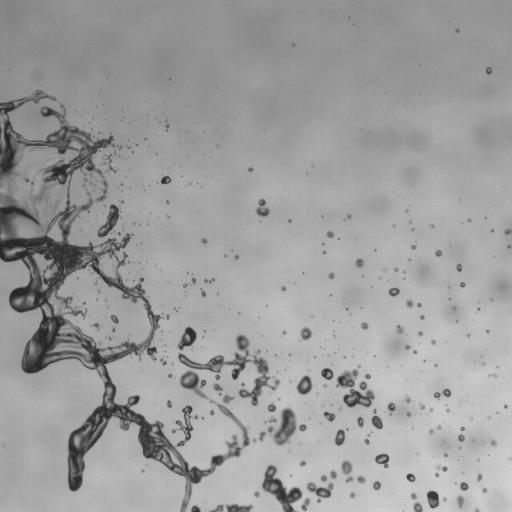droplet: (336, 368, 374, 407), (97, 204, 121, 237), (306, 482, 333, 502), (296, 375, 313, 394), (256, 198, 269, 217), (426, 490, 439, 508), (375, 453, 389, 467), (334, 429, 345, 445), (300, 327, 312, 340), (321, 368, 333, 380), (435, 464, 446, 477), (323, 411, 335, 421), (388, 287, 399, 296), (213, 383, 222, 394), (456, 495, 464, 507), (267, 402, 276, 412), (387, 402, 395, 413), (355, 258, 364, 267), (406, 473, 415, 482), (459, 482, 468, 491), (161, 176, 171, 184), (110, 314, 118, 323), (357, 416, 363, 427), (190, 505, 201, 511), (396, 325, 404, 333), (357, 475, 365, 483), (267, 416, 276, 423), (373, 481, 380, 490), (406, 299, 413, 307), (404, 395, 411, 403), (91, 323, 100, 329), (326, 231, 333, 238), (361, 322, 368, 329), (490, 439, 497, 446), (330, 470, 336, 478), (435, 250, 442, 256), (160, 358, 166, 365), (458, 434, 464, 441), (299, 460, 306, 466), (320, 475, 327, 481), (328, 272, 334, 278), (486, 67, 491, 74), (504, 229, 511, 234), (456, 264, 461, 271), (477, 474, 482, 481), (24, 176, 29, 182), (201, 238, 207, 243), (365, 373, 370, 379), (254, 491, 259, 497), (350, 492, 355, 498), (167, 400, 171, 407), (460, 282, 465, 287), (281, 286, 286, 291), (418, 331, 423, 336), (420, 404, 425, 409), (165, 123, 169, 129), (191, 277, 195, 283), (201, 290, 205, 296), (411, 245, 416, 249), (417, 302, 421, 307), (482, 488, 487, 492), (248, 167, 252, 171), (90, 182, 94, 186), (347, 214, 351, 218), (234, 255, 238, 259), (394, 267, 398, 271), (183, 283, 187, 287), (420, 315, 424, 319), (282, 330, 286, 334), (431, 340, 435, 344), (405, 345, 409, 349), (407, 412, 411, 416), (437, 425, 441, 429), (429, 429, 433, 433), (474, 508, 479, 511), (112, 327, 115, 331), (168, 374, 172, 377), (429, 408, 433, 411), (446, 408, 449, 412), (210, 410, 213, 414), (460, 427, 464, 430), (443, 497, 446, 501), (456, 29, 459, 32), (127, 145, 130, 148), (30, 182, 33, 185), (413, 350, 416, 353), (323, 384, 326, 387), (504, 405, 507, 408), (444, 453, 447, 456), (84, 178, 86, 181), (166, 201, 169, 203), (288, 220, 291, 222), (431, 224, 433, 227), (491, 229, 493, 232), (508, 245, 511, 247), (486, 330, 489, 332), (467, 334, 470, 336), (289, 380, 292, 382), (187, 183, 189, 185), (468, 219, 470, 221), (323, 251, 325, 253), (453, 307, 455, 309), (358, 365, 360, 367), (278, 398, 280, 400)
ligament: (0, 98, 306, 511), (261, 464, 302, 511), (210, 503, 253, 511), (341, 460, 353, 482), (103, 154, 117, 172), (410, 492, 422, 511), (371, 409, 382, 429), (434, 388, 451, 399), (301, 497, 310, 511), (364, 433, 370, 444), (204, 278, 214, 282), (490, 374, 496, 376)
